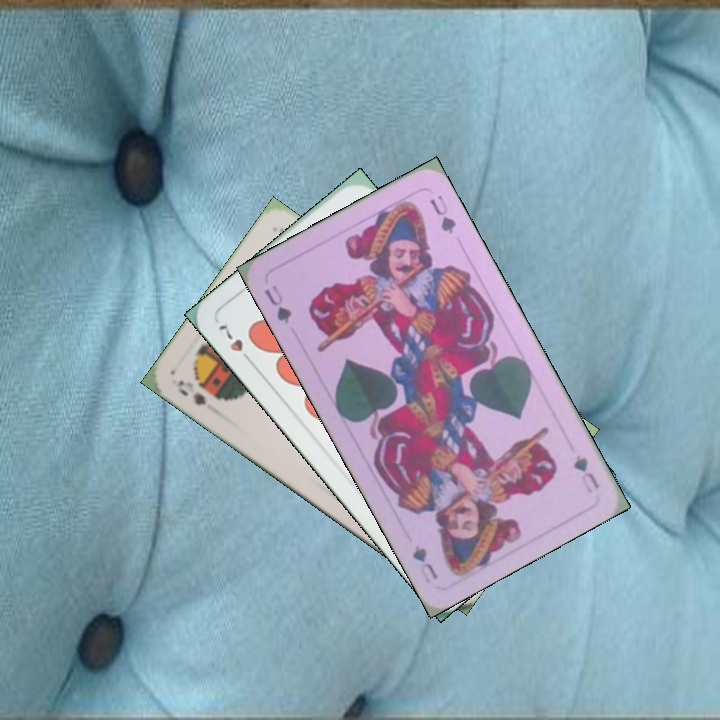GU: (259, 280, 295, 327), (569, 451, 603, 496)
H7: (214, 320, 256, 367)
SO: (172, 376, 209, 408)
